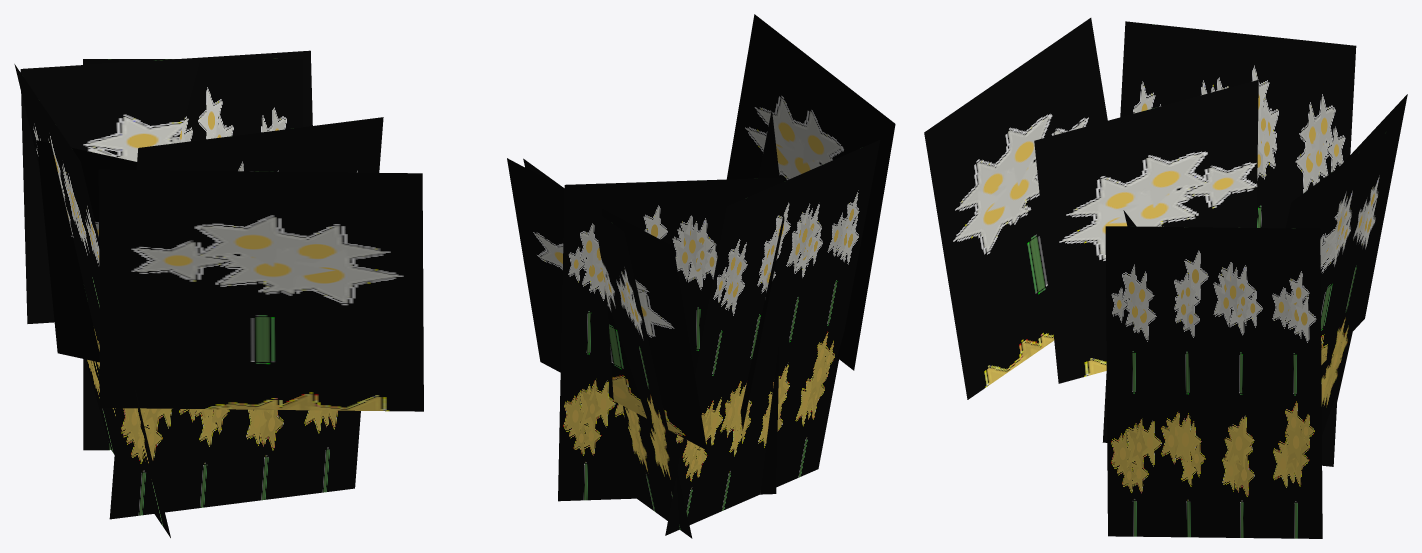
Rendered from flower-white.glb.
3 renders of one model, left to right at view 1: azimuth 30°, elevation 25°; view 2: azimuth 150°, elevation 25°; view 3: azimuth 270°, elevation 25°, orthographic. The views are drawn at different scales.
Parts seen in each view (by area): view 1: flower-clump; view 2: flower-clump; view 3: flower-clump.
Boxes of the visible parts, left/top/right/bottom form: flower-clump: left=14, top=50, right=423, bottom=537; flower-clump: left=507, top=14, right=895, bottom=538; flower-clump: left=924, top=18, right=1407, bottom=538.
Bounding box in the file's own units: 0.5236 × 0.5833 × 0.6295.
Materials: 1 (1 with a texture image).
